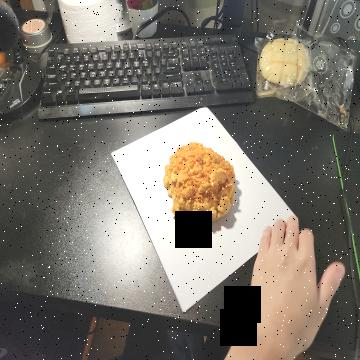soboru_bread: (163, 140, 237, 224)
